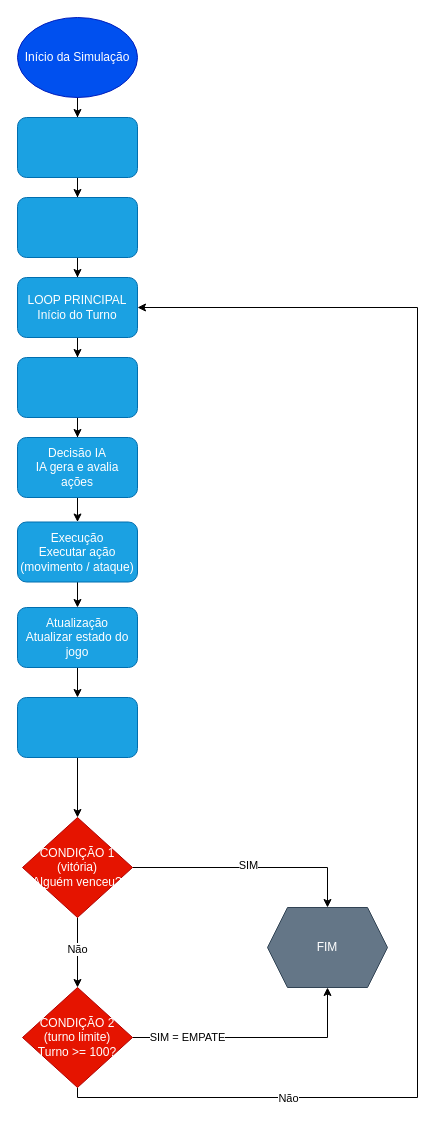
This 443x1123 diagram has some shape labels left out. Each missing label, with the centre of its shape:
Coleta Registrar métricas: point (77, 727)
INICIALIZAÇÂO Inicializar Grid Criar Agentes (3 vs 3) Definir Seed: point (77, 147)
Seleção Selecionar agente da vez: point (77, 387)
Setup Resetar métricas Turno = 0: point (77, 227)
